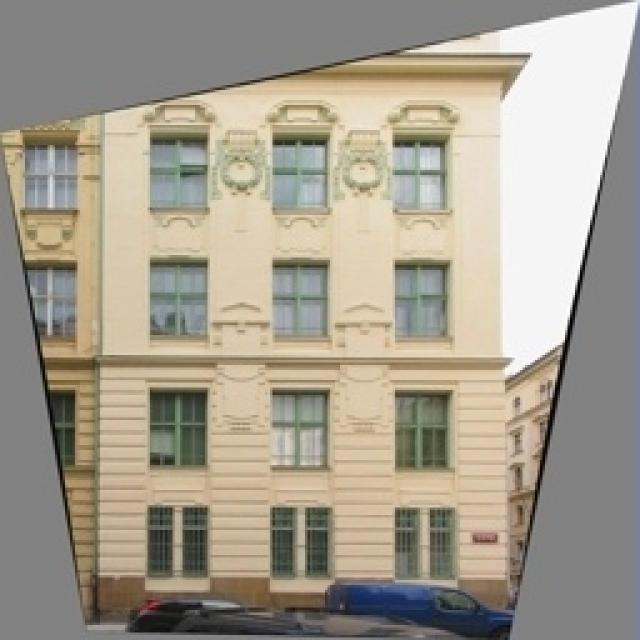building: (90, 15, 538, 640)
